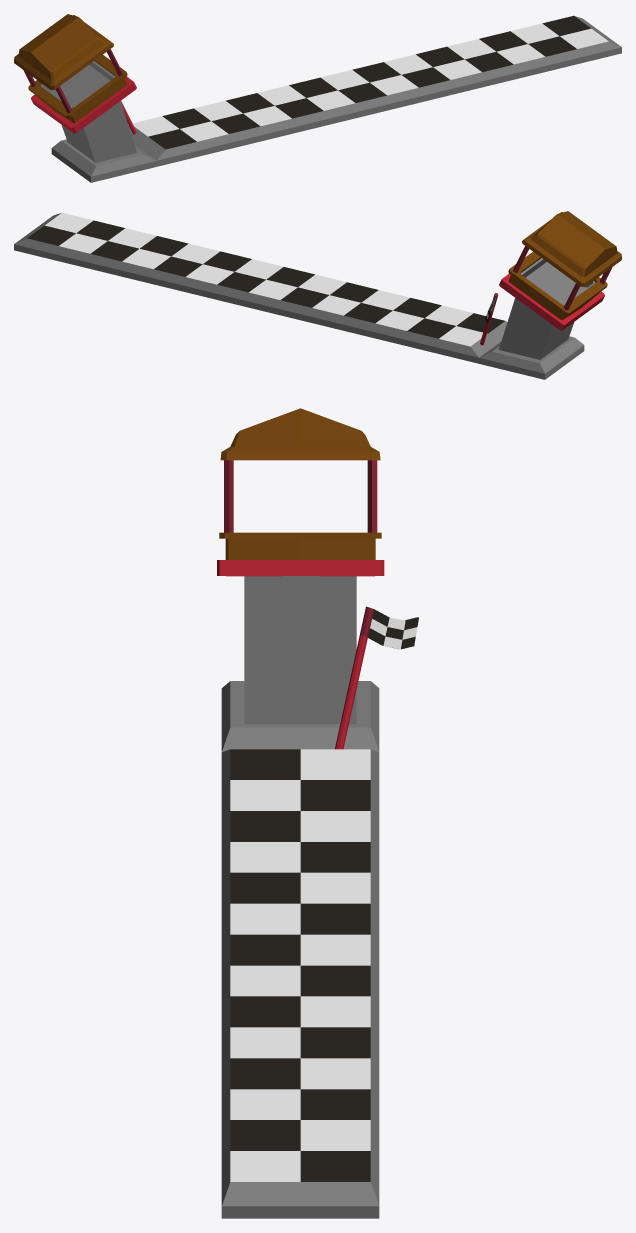
Rendered from Prop_Goal_Ver2.obj.
The picture shows the model from 3 angles, top to bottom: view 1: azimuth 30°, elevation 25°; view 2: azimuth 150°, elevation 25°; view 3: azimuth 270°, elevation 25°; orthographic projection. The views are drawn at different scales.
Visible parts, largest first — view 1: Goalpost_Ver2.001; view 2: Goalpost_Ver2.001; view 3: Goalpost_Ver2.001.
Part boxes in pixels (x1,y1,x2,y2): Goalpost_Ver2.001: (14, 14, 621, 182); Goalpost_Ver2.001: (14, 211, 621, 379); Goalpost_Ver2.001: (217, 408, 418, 1218).
Bounding box in the file's own units: 15.13 × 3.79 × 2.32.
2 materials, 2 textured.
